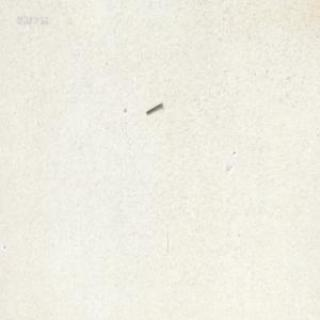Bolttrack_idkeyframe: (144, 99, 161, 113)
